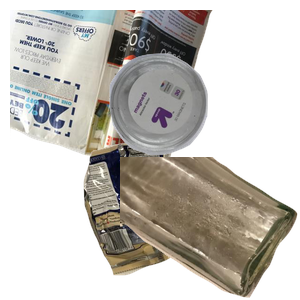glass: (120, 157, 300, 300)
paper: (10, 10, 215, 186)
plastic: (107, 51, 300, 199)
trash: (81, 137, 280, 300)
